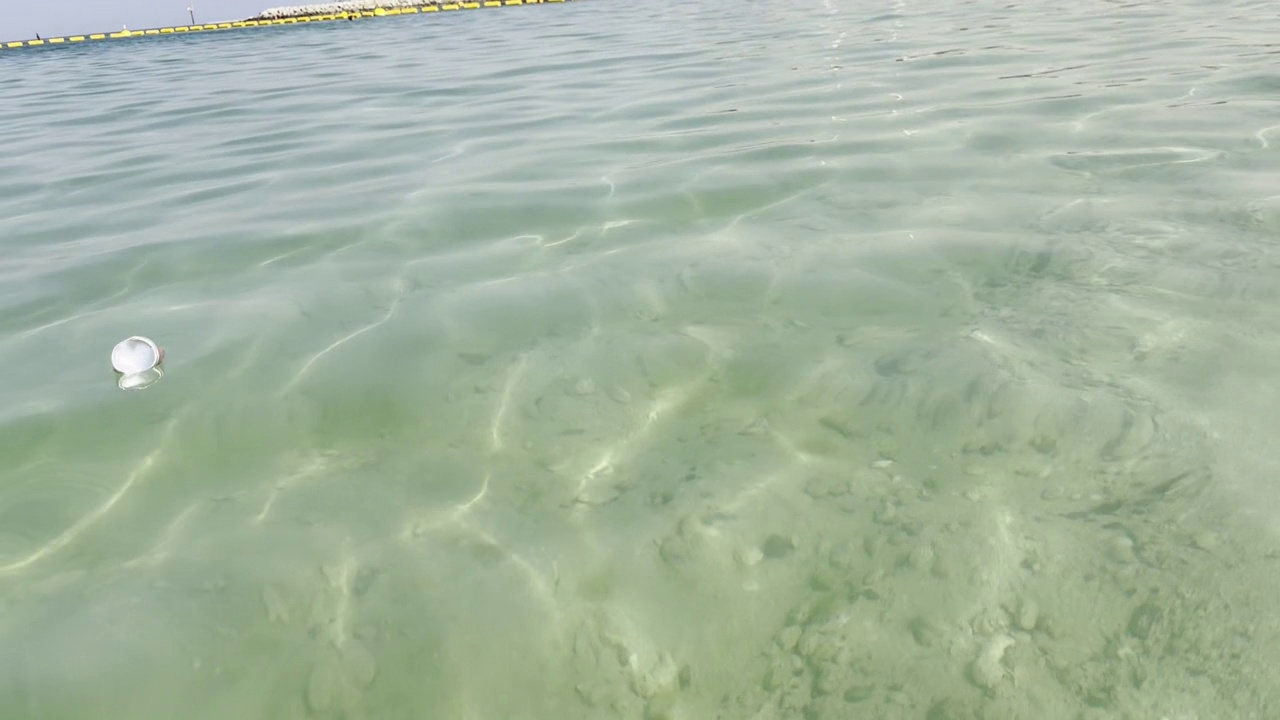debris: (107, 336, 168, 386)
